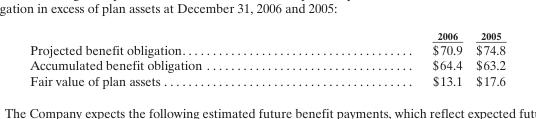table: (29, 29, 504, 88)
table column: (29, 29, 316, 88), (316, 29, 468, 88), (468, 29, 504, 88)
table column header: (29, 29, 504, 41)
table row: (29, 41, 504, 57), (29, 72, 504, 88), (29, 57, 504, 72), (29, 29, 504, 41)
